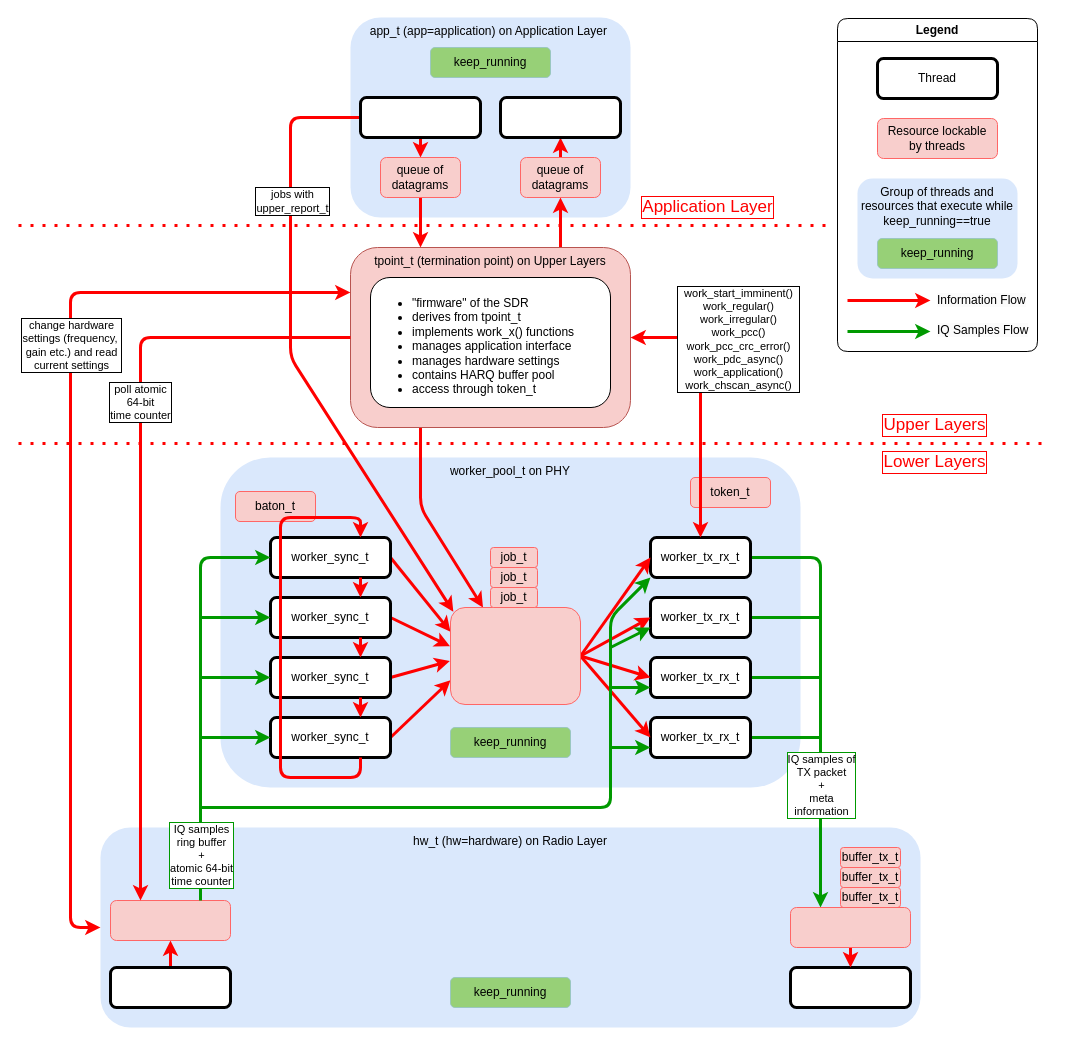
The diagram is 1065 pixels wide and 1044 high, and some of its shapes have lost their labels. Each missing label, with the centre of its shape:
"app_client_t" goes at pixel 560 117.
"app_server_t" goes at pixel 420 117.
"buffer_rx_t" goes at pixel 170 920.
"buffer_tx_pool_t" goes at pixel 850 927.
"job_queue_t regular_report_t irregular_report_t sync_report_t upper_report_t" goes at pixel 515 655.
"RX" goes at pixel 170 987.
"TX" goes at pixel 850 987.
